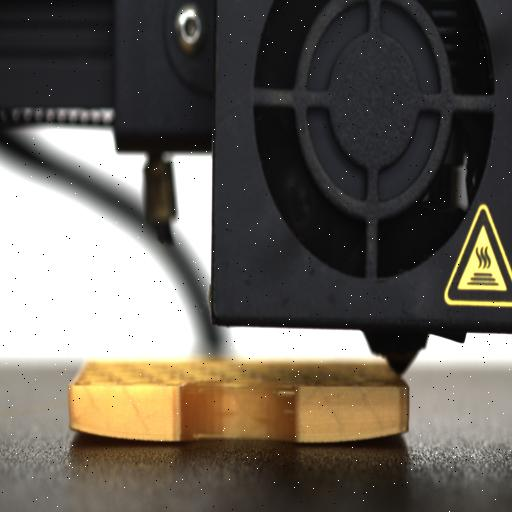warp: (299, 422, 411, 442)
